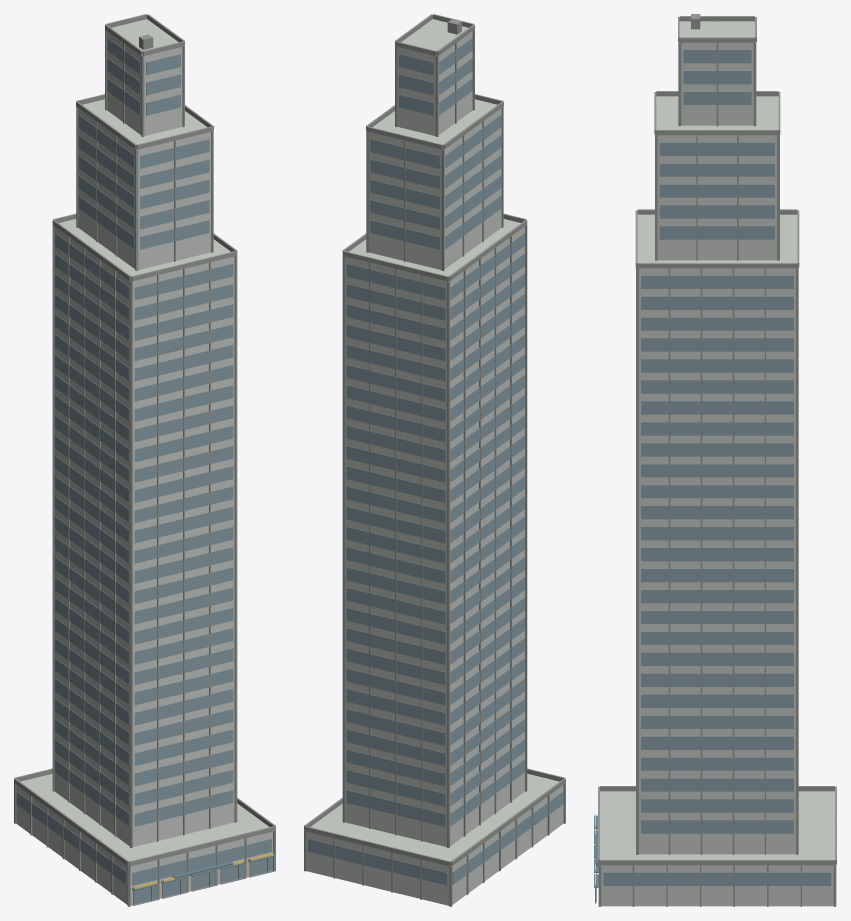
Rendered from commercial_3x4_tower_steps.glb.
The picture shows the model from 3 angles, left to right: view 1: azimuth 30°, elevation 25°; view 2: azimuth 150°, elevation 25°; view 3: azimuth 270°, elevation 25°; orthographic projection. The views are drawn at different scales.
Parts seen in each view (by area): view 1: commercial_3x4_tower_steps_0; view 2: commercial_3x4_tower_steps_0; view 3: commercial_3x4_tower_steps_0.
Part boxes in pixels (<box>): commercial_3x4_tower_steps_0: <box>14,14,275,906</box>; commercial_3x4_tower_steps_0: <box>304,14,565,906</box>; commercial_3x4_tower_steps_0: <box>594,14,836,906</box>.
Bounding box in the file's own units: 23 × 122 × 31.5.
